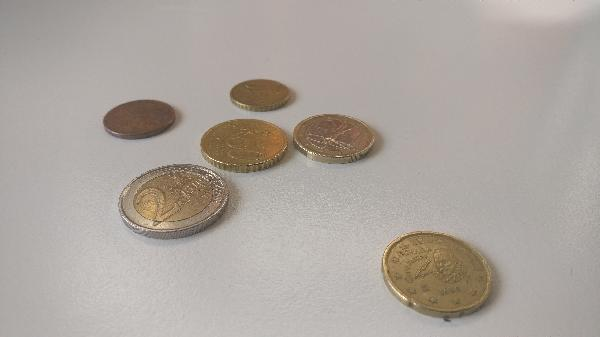Fifty Cent: (198, 117, 288, 172)
Five Cent: (101, 98, 176, 138)
One Euro: (294, 114, 375, 164)
Ten Cent: (229, 76, 292, 112)
Twenty Cent: (379, 230, 493, 316)
Two Euro: (116, 164, 226, 240)
